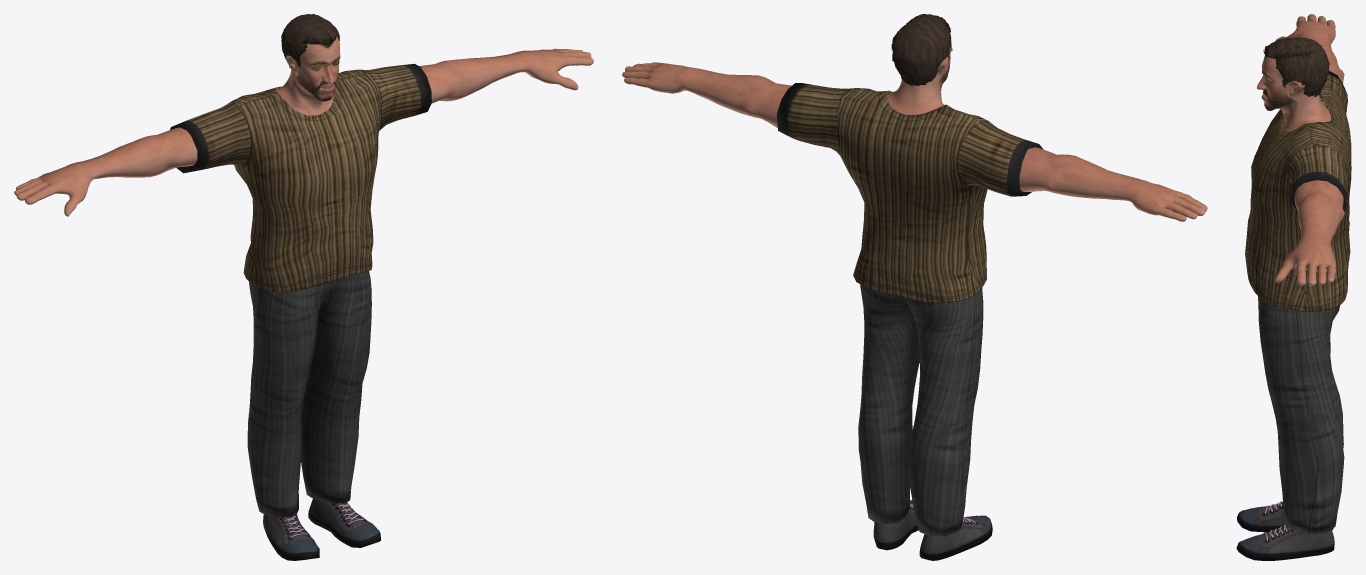
Rendered from Paulie.obj.
The picture shows the model from 3 angles, left to right: view 1: azimuth 30°, elevation 25°; view 2: azimuth 150°, elevation 25°; view 3: azimuth 270°, elevation 25°; orthographic projection. The views are drawn at different scales.
Parts seen in each view (by area): view 1: Tops, Bottoms, Body, Shoes, Hair; view 2: Tops, Bottoms, Body, Hair, Shoes; view 3: Tops, Bottoms, Body, Shoes, Hair.
Boxes of the visible parts, x1=… form: Tops: x1=170, y1=63, x2=431, y2=292; Bottoms: x1=247, y1=271, x2=371, y2=517; Body: x1=14, y1=37, x2=593, y2=216; Shoes: x1=263, y1=498, x2=380, y2=560; Hair: x1=281, y1=14, x2=339, y2=68; Tops: x1=776, y1=83, x2=1043, y2=303; Bottoms: x1=858, y1=284, x2=983, y2=536; Body: x1=622, y1=35, x2=1207, y2=221; Hair: x1=891, y1=14, x2=951, y2=85; Shoes: x1=873, y1=500, x2=992, y2=560; Tops: x1=1245, y1=71, x2=1351, y2=311; Bottoms: x1=1258, y1=296, x2=1344, y2=534; Body: x1=1257, y1=14, x2=1344, y2=286; Shoes: x1=1236, y1=501, x2=1334, y2=560; Hair: x1=1263, y1=37, x2=1329, y2=97.
Size of the model in its own units: 210 by 180 by 37.71.
Materials: 5 (5 with a texture image).
